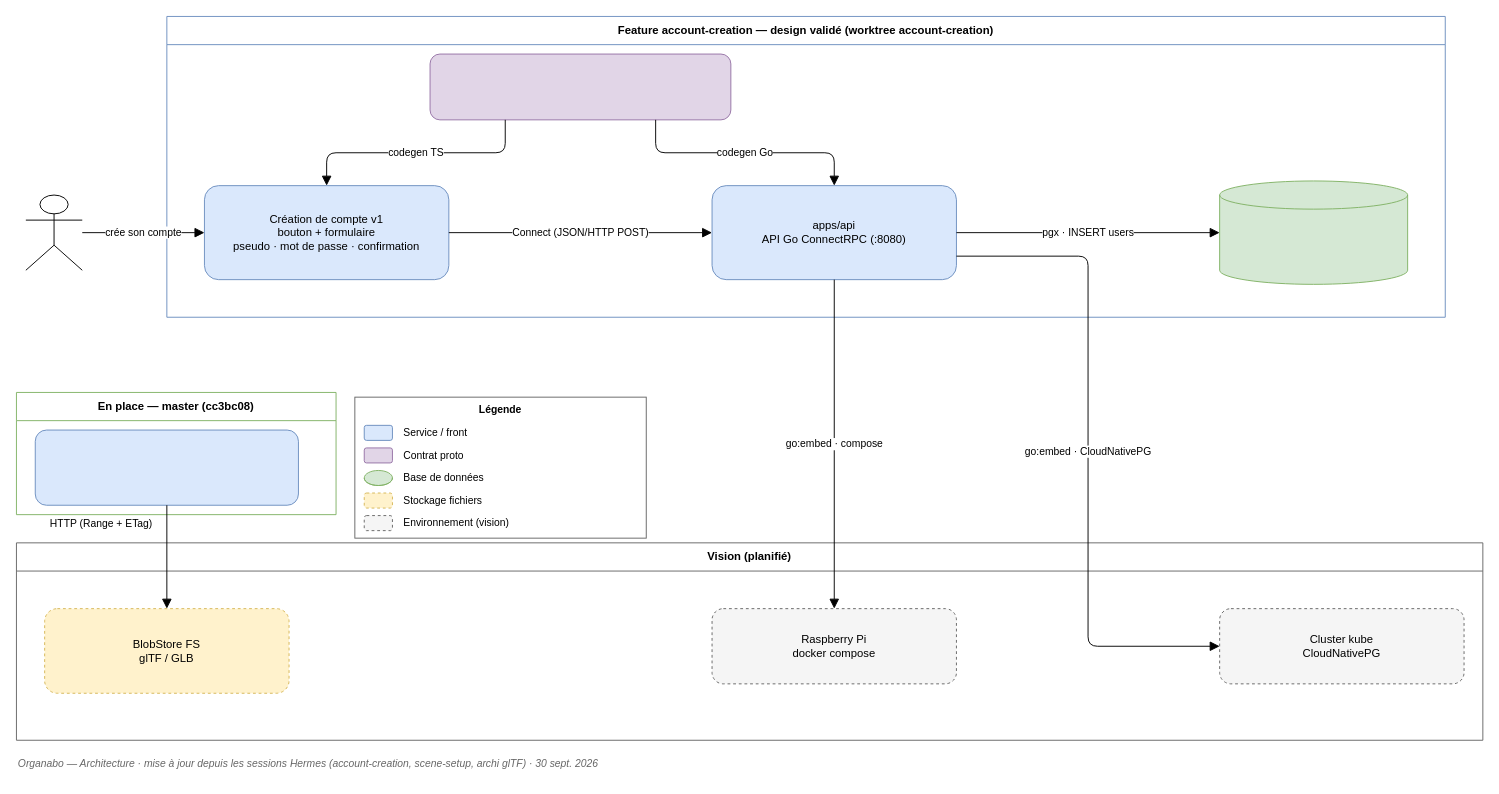
The diagram is 1499 pixels wide and 794 high, and some of its shapes have lost their labels. The shapes that lost their labels are listed below. From the top down, each one's centre as x and y in pixels, then its label:
At point (580, 86): "packages/proto organabo/account/v1/account.proto".
At point (53, 232): "Utilisateur".
At point (1313, 232): "Postgres 18-alpine (compose, :5432)".
At point (166, 467): "apps/frontend React + Vite + Babylon.js".
